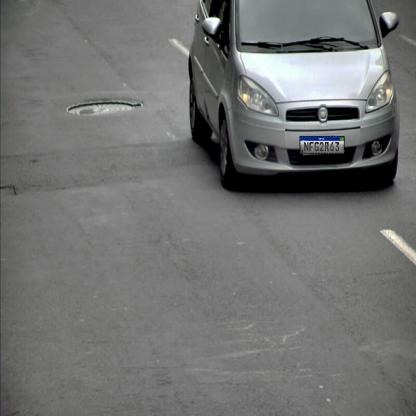PlacaM: (300, 136, 344, 154)
